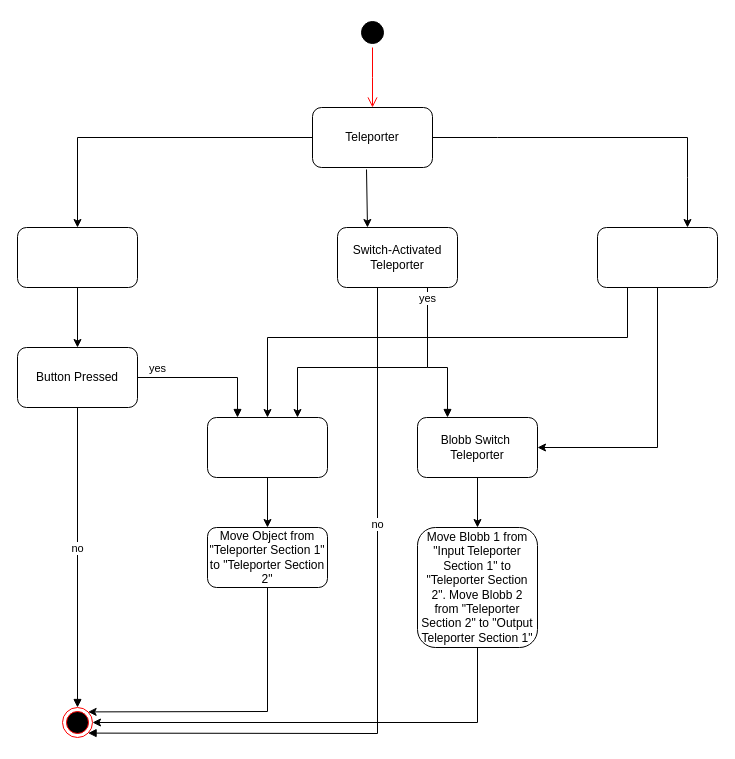
This 735x759 diagram has some shape labels left out. The shapes that lost their labels are listed below. From the top down, each one's box as (x1, y1, x2, y2) in pixels, then its label:
(16, 226, 138, 288): Button-Activated Teleporter
(596, 226, 718, 288): Already Activated Teleporter
(206, 416, 328, 478): Object Teleporter
